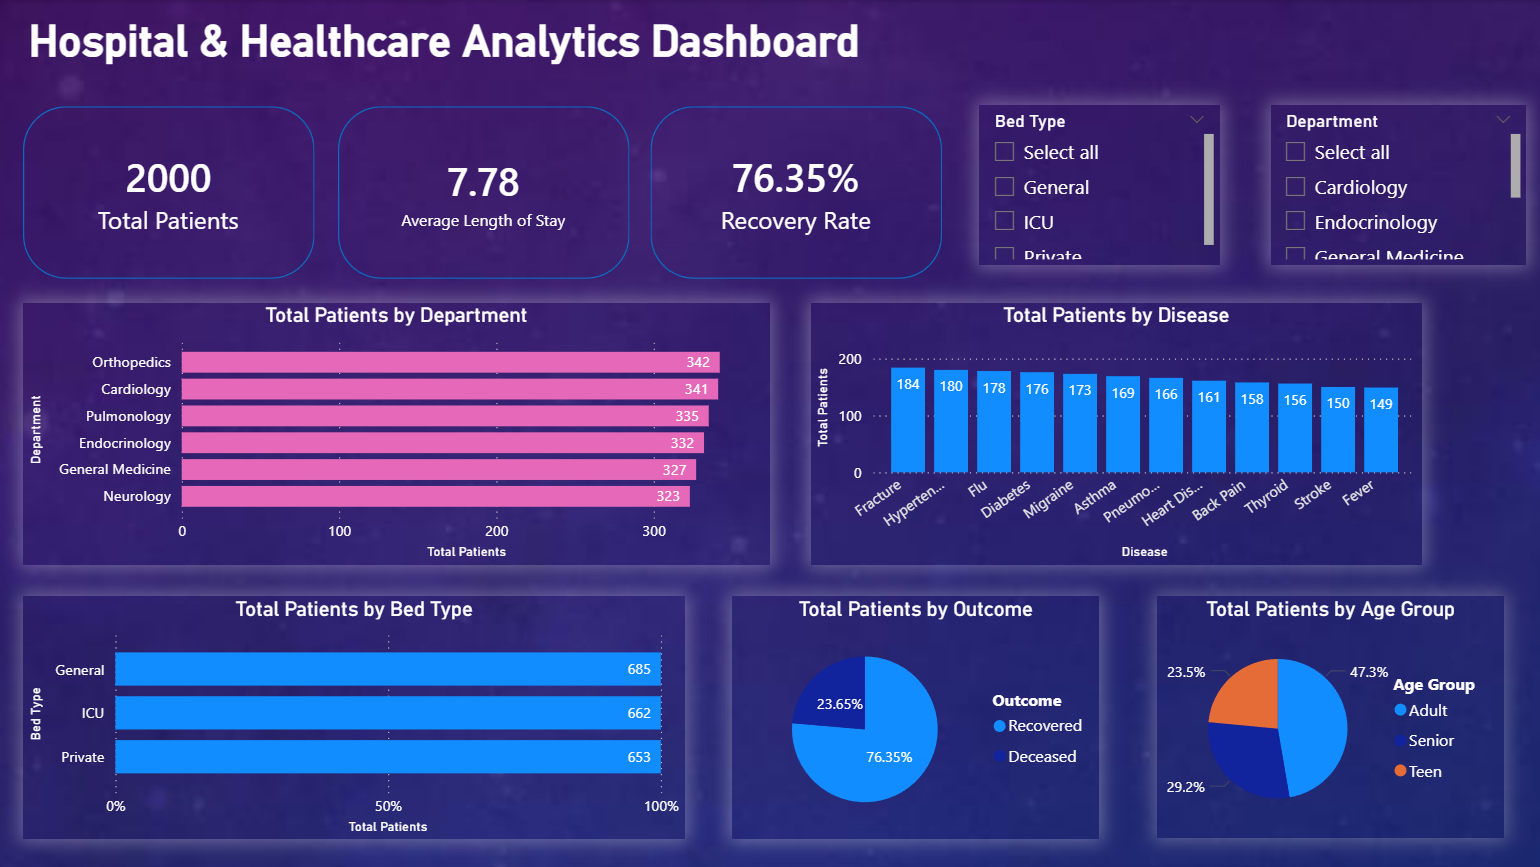

The page's visual inventory and layout, read from the dashboard file:
{"tool":"powerbi","page":{"name":"Hospital & Healthcare Analytics Dashboard","canvas":[1280,720],"ordinal":0},"visuals":[{"type":"group","id":"g1","title":"Group 1","box":[20.4,88.5,762.2,142.9],"z":0},{"type":"shape","box":[20.4,88.5,241.7,143],"z":0,"group":"g1"},{"type":"cardVisual","title":"Total Patients","fields":{"Data":["Beds.Recovery Rate"]},"box":[553,103.2,216.3,112.8],"z":0,"group":"g2"},{"type":"shape","box":[281.6,88.5,241.7,143],"z":1000,"group":"g1"},{"type":"cardVisual","title":"Total Patients","fields":{"Data":["Beds.Total Patients (No K)"]},"box":[32.9,103.2,216.6,112.3],"z":1000,"group":"g2"},{"type":"clusteredBarChart","fields":{"Category":["Patient.Department"],"Y":["Beds.Total Patients"]},"box":[20.4,250.7,619.3,217.8],"z":1000},{"type":"shape","box":[540.3,88.5,241.7,143],"z":2000,"group":"g1"},{"type":"cardVisual","title":"Total Patients","fields":{"Data":["Beds.Average Length of Stay"]},"box":[293.8,103.2,216.6,112.3],"z":2000,"group":"g2"},{"type":"clusteredColumnChart","fields":{"Category":["Patient.Disease"],"Y":["Beds.Total Patients"]},"box":[673.7,250.7,507,217.8],"z":2000},{"type":"hundredPercentStackedBarChart","fields":{"Category":["Patient.Bed_Type"],"Y":["Beds.Total Patients"]},"box":[20.4,494.5,549,201.9],"z":3000},{"type":"pieChart","fields":{"Category":["Patient.Outcome"],"Y":["Beds.Total Patients"]},"box":[607.9,494.5,305.1,201.9],"z":4000},{"type":"slicer","fields":{"Values":["Patient.Department"]},"box":[1054.8,87.3,212.1,132.7],"z":5000},{"type":"slicer","fields":{"Values":["Patient.Bed_Type"]},"box":[813.2,87.3,199.6,132.7],"z":6000},{"type":"textbox","title":"Hospital & Healthcare Analytics Dashboard","box":[20.9,12.8,855.8,70.9],"z":7000},{"type":"pieChart","fields":{"Category":["Patient.Age Group"],"Y":["Beds.Total Patients"]},"box":[960.7,494.5,288.1,200.8],"z":8000},{"type":"group","id":"g2","title":"Group 2","box":[32.9,103.2,736.4,112.8],"z":9000}]}

Visuals, with their boxes in screenshot pixels (x1, y1, x2, y2), scaled from the page's 1280x720 canvas onto the 1540x867 screenshot:
"Group 1" group: box(25, 107, 942, 279)
shape: box(25, 107, 315, 279)
"Total Patients" cardVisual: box(665, 124, 926, 260)
shape: box(339, 107, 630, 279)
"Total Patients" cardVisual: box(40, 124, 300, 259)
clusteredBarChart - Patient.Department x Beds.Total Patients: box(25, 302, 770, 564)
shape: box(650, 107, 941, 279)
"Total Patients" cardVisual: box(353, 124, 614, 259)
clusteredColumnChart - Patient.Disease x Beds.Total Patients: box(811, 302, 1421, 564)
hundredPercentStackedBarChart - Patient.Bed_Type x Beds.Total Patients: box(25, 595, 685, 839)
pieChart - Patient.Outcome x Beds.Total Patients: box(731, 595, 1098, 839)
slicer - Patient.Department: box(1269, 105, 1524, 265)
slicer - Patient.Bed_Type: box(978, 105, 1219, 265)
"Hospital & Healthcare Analytics Dashboard" textbox: box(25, 15, 1055, 101)
pieChart - Patient.Age Group x Beds.Total Patients: box(1156, 595, 1502, 837)
"Group 2" group: box(40, 124, 926, 260)
